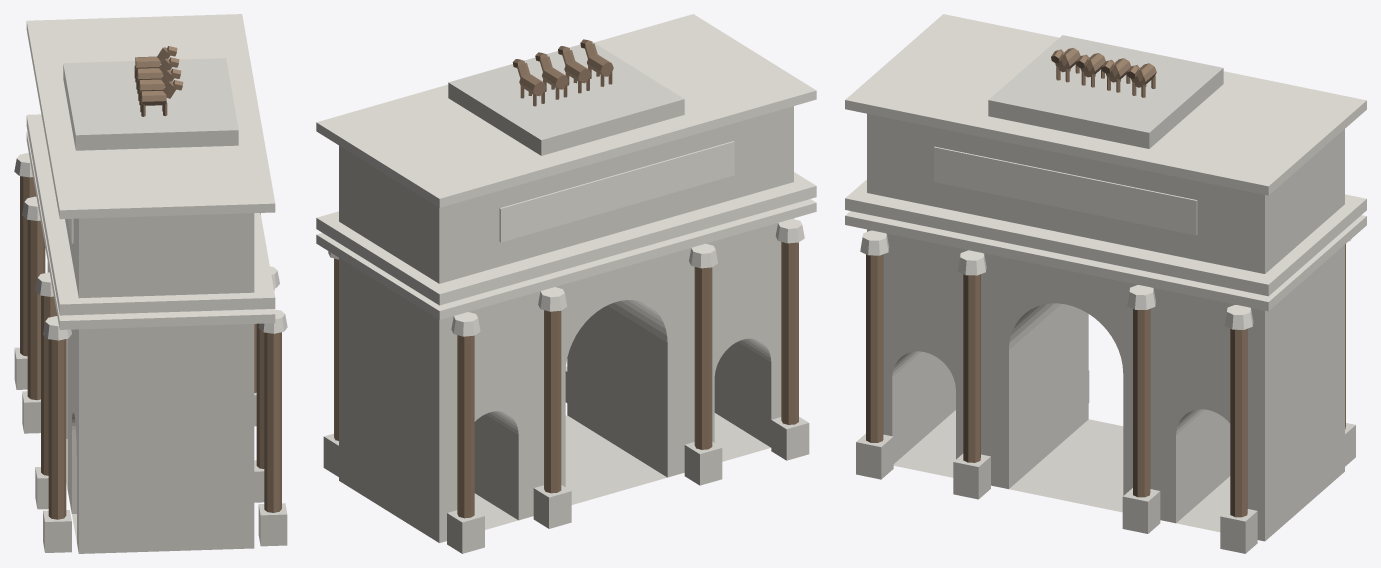
3 renders of one model, left to right at view 1: azimuth 30°, elevation 25°; view 2: azimuth 150°, elevation 25°; view 3: azimuth 270°, elevation 25°, orthographic. The views are drawn at different scales.
Visible parts, largest first — view 1: stone, trim, metal; view 2: stone, trim, metal; view 3: stone, trim, metal.
Part boxes in pixels (x1=…): stone: x1=14, y1=58, x2=287, y2=553; trim: x1=14, y1=14, x2=287, y2=340; metal: x1=20, y1=46, x2=281, y2=519; stone: x1=323, y1=42, x2=809, y2=553; trim: x1=316, y1=14, x2=816, y2=336; metal: x1=334, y1=39, x2=798, y2=518; stone: x1=856, y1=35, x2=1355, y2=553; trim: x1=845, y1=14, x2=1366, y2=329; metal: x1=866, y1=48, x2=1345, y2=517.
Size of the model in its own units: 16.32 by 17.99 by 20.43.
